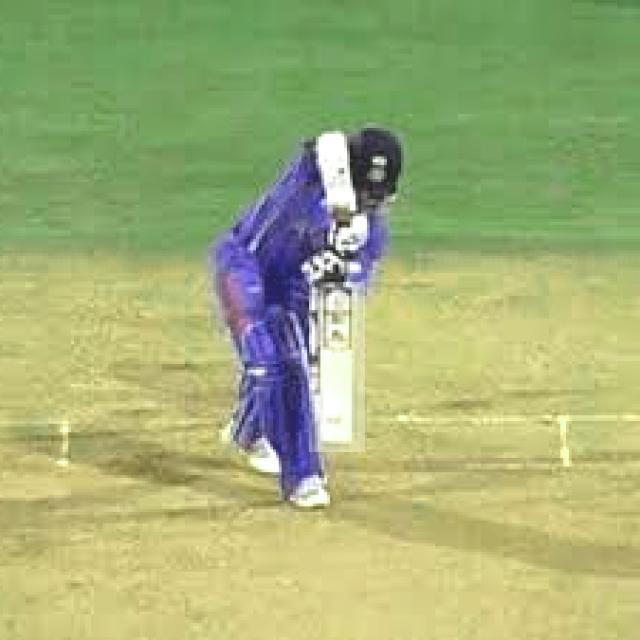bat: (310, 278, 363, 453)
toe: (315, 438, 358, 455)
